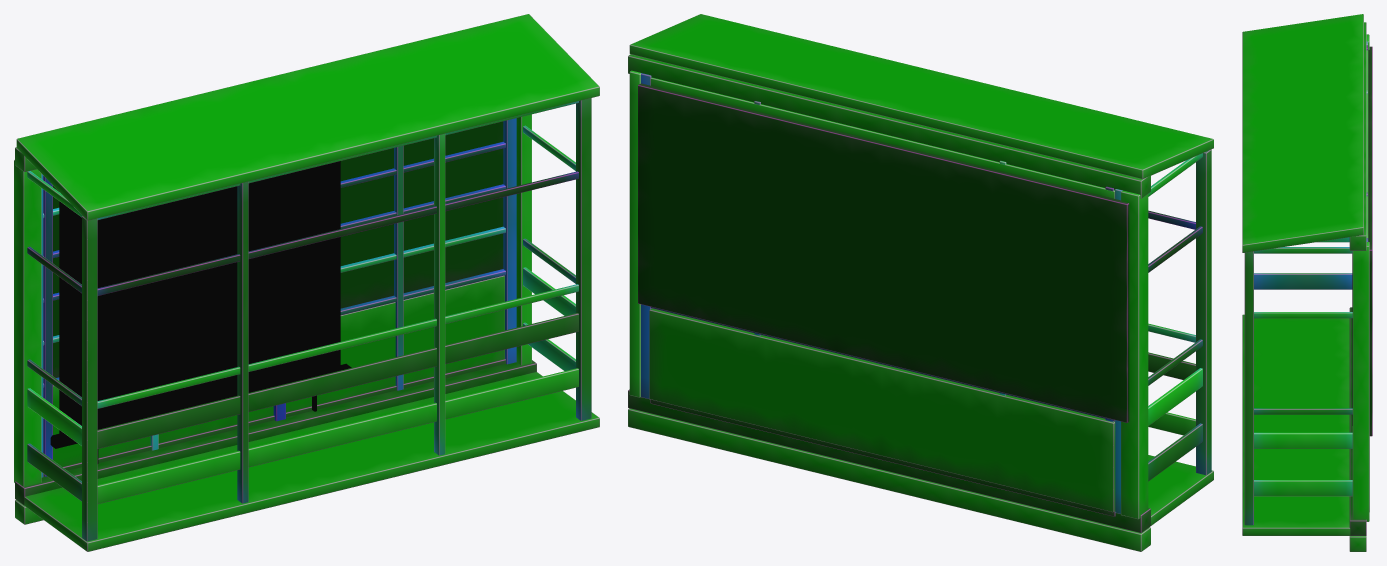
File: window_400x350_06.fbx
3 views of the same model, side by side, from view 1: azimuth 30°, elevation 25°; view 2: azimuth 150°, elevation 25°; view 3: azimuth 270°, elevation 25° (orthographic). The views are drawn at different scales.
Visible parts, largest first — view 1: window_400x350_06; view 2: window_400x350_06; view 3: window_400x350_06.
Part boxes in pixels (x1,y1,x2,y2): window_400x350_06: (14,14,599,551); window_400x350_06: (628,14,1213,551); window_400x350_06: (1242,14,1372,551).
Bounding box in the file's own units: 3.1 × 2.2 × 0.8003.
